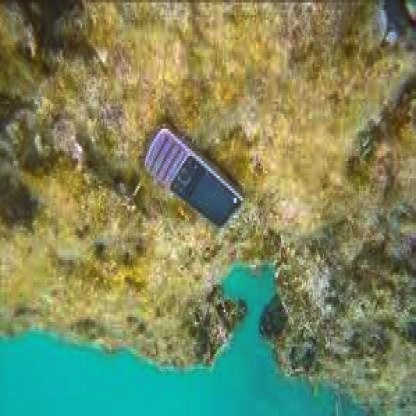cellphone: (143, 129, 248, 235)
